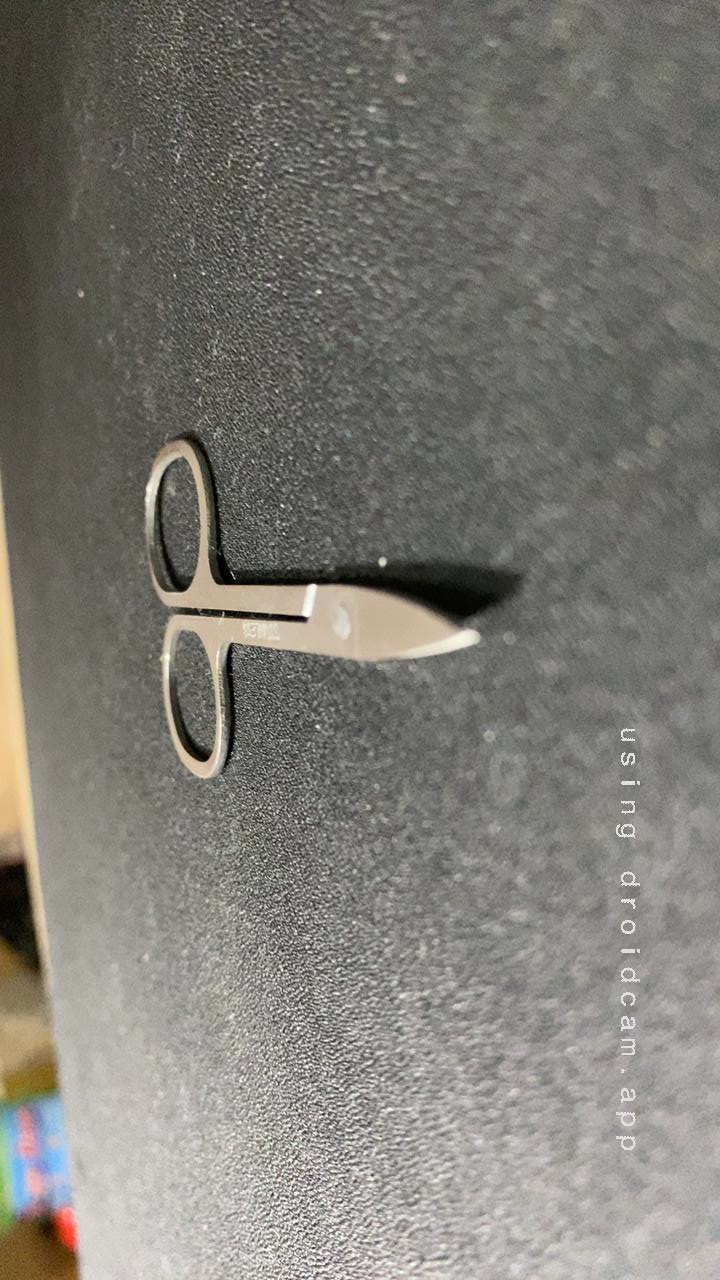scissor: (24, 396, 327, 794)
